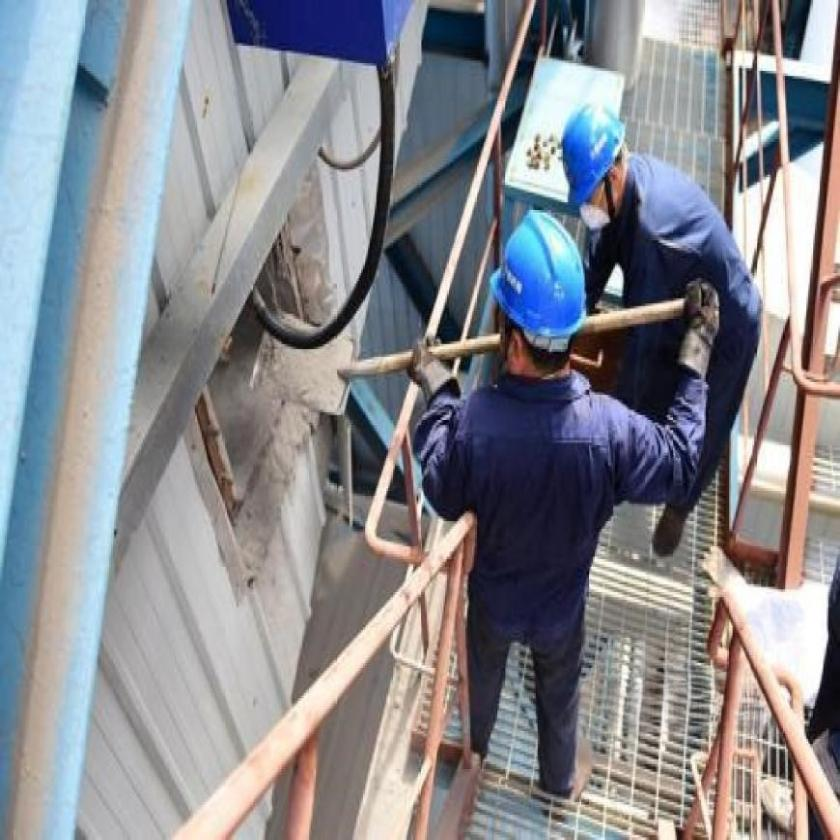Con_casco: (558, 104, 645, 236)
